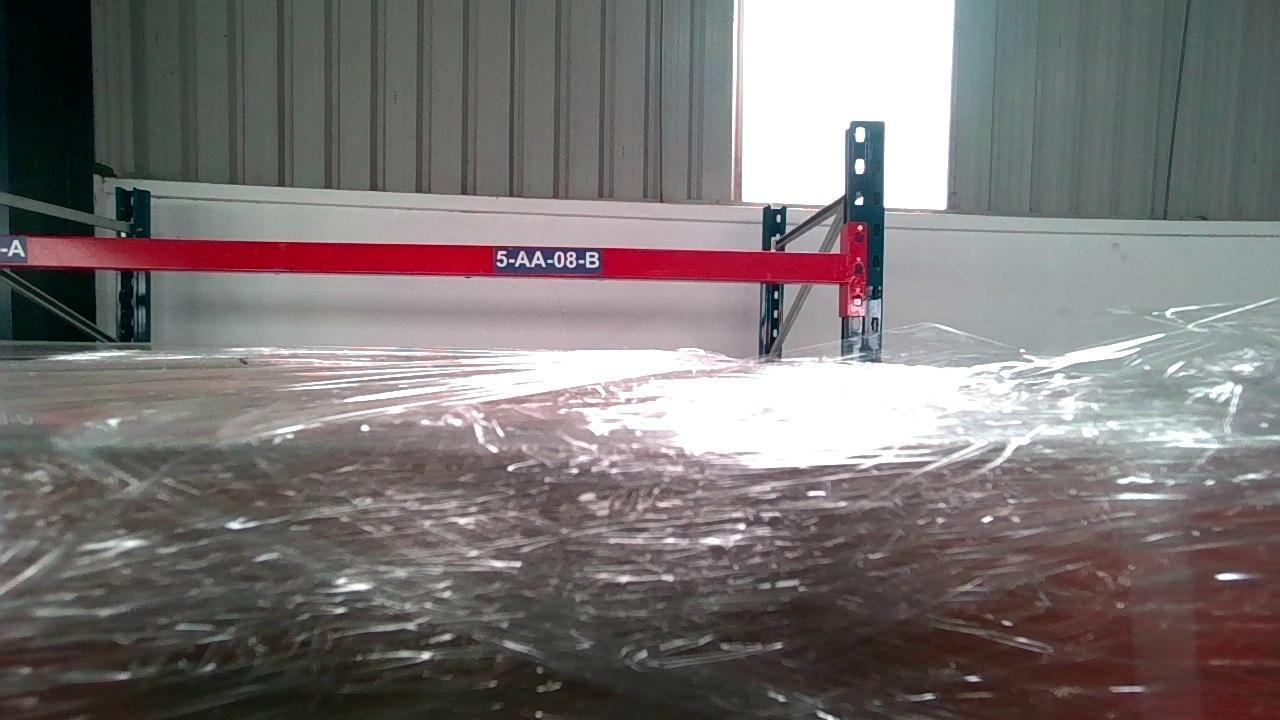h_rack: (0, 232, 855, 282)
